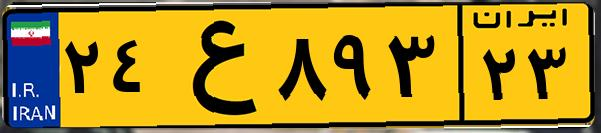2: (57, 26, 110, 100), (475, 38, 525, 113)
3: (385, 28, 445, 110), (525, 38, 570, 115)
4: (110, 28, 158, 98)
8: (270, 28, 330, 110)
9: (330, 28, 385, 110)
ع: (158, 12, 270, 120)
